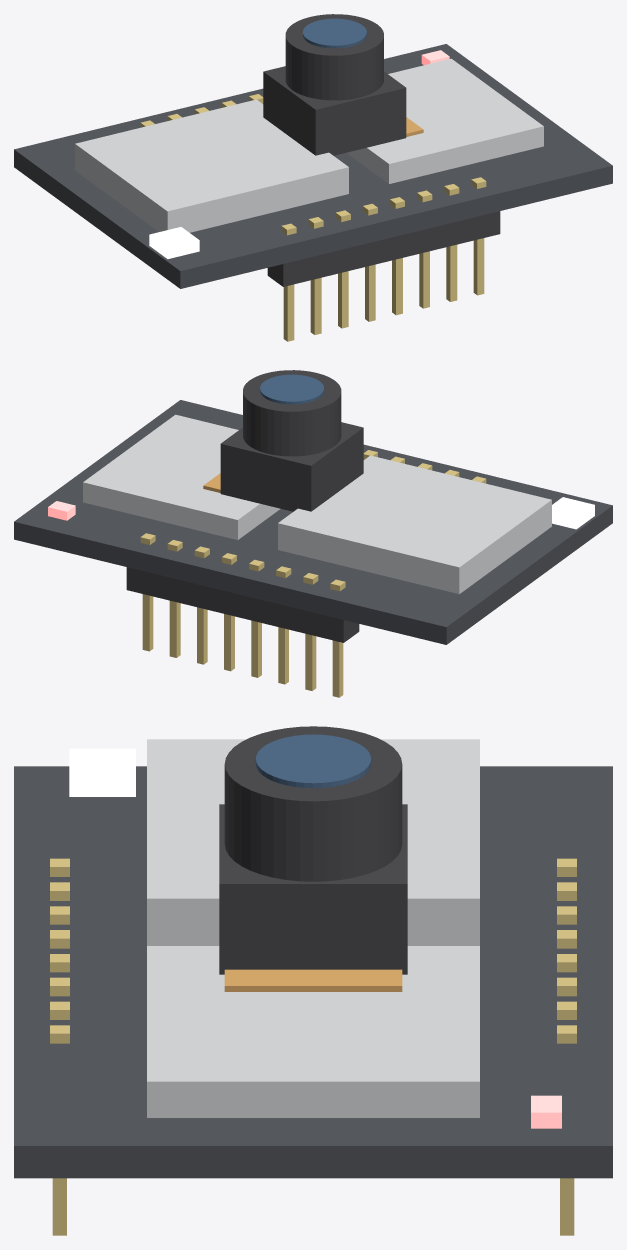
Rendered from esp32_cam.glb.
The picture shows the model from 3 angles, top to bottom: view 1: azimuth 30°, elevation 25°; view 2: azimuth 150°, elevation 25°; view 3: azimuth 270°, elevation 25°; orthographic projection. The views are drawn at different scales.
Visible parts, largest first — view 1: esp32_cam_1_pcb_black, esp32_cam_2_shield, esp32_cam_3_shield, esp32_cam_5_plastic_black, esp32_cam_6_plastic_black, esp32_cam_27_plastic_black, esp32_cam_7_glass, esp32_cam_8_led_white, esp32_cam_28_gold, esp32_cam_40_gold, esp32_cam_42_gold, esp32_cam_30_gold (+4 smaller); view 2: esp32_cam_1_pcb_black, esp32_cam_2_shield, esp32_cam_3_shield, esp32_cam_5_plastic_black, esp32_cam_6_plastic_black, esp32_cam_10_plastic_black, esp32_cam_7_glass, esp32_cam_8_led_white, esp32_cam_11_gold, esp32_cam_23_gold, esp32_cam_25_gold, esp32_cam_13_gold (+4 smaller); view 3: esp32_cam_1_pcb_black, esp32_cam_3_shield, esp32_cam_2_shield, esp32_cam_6_plastic_black, esp32_cam_5_plastic_black, esp32_cam_7_glass, esp32_cam_4_orange, esp32_cam_8_led_white, esp32_cam_9_led_red, esp32_cam_25_gold, esp32_cam_42_gold.
Boxes of the visible parts, <box> form: esp32_cam_1_pcb_black: <box>14,44,612,288</box>; esp32_cam_2_shield: <box>75,99,348,232</box>; esp32_cam_3_shield: <box>346,58,543,183</box>; esp32_cam_5_plastic_black: <box>263,66,406,155</box>; esp32_cam_6_plastic_black: <box>285,14,383,100</box>; esp32_cam_27_plastic_black: <box>267,211,500,286</box>; esp32_cam_7_glass: <box>303,18,366,48</box>; esp32_cam_8_led_white: <box>149,227,199,258</box>; esp32_cam_28_gold: <box>283,284,294,341</box>; esp32_cam_40_gold: <box>446,244,457,301</box>; esp32_cam_42_gold: <box>473,238,484,295</box>; esp32_cam_30_gold: <box>310,277,321,334</box>; esp32_cam_1_pcb_black: <box>14,400,612,644</box>; esp32_cam_2_shield: <box>278,455,551,594</box>; esp32_cam_3_shield: <box>83,414,280,539</box>; esp32_cam_5_plastic_black: <box>220,422,363,511</box>; esp32_cam_6_plastic_black: <box>243,370,341,456</box>; esp32_cam_10_plastic_black: <box>126,567,359,642</box>; esp32_cam_7_glass: <box>260,374,323,404</box>; esp32_cam_8_led_white: <box>552,497,594,529</box>; esp32_cam_11_gold: <box>332,640,343,697</box>; esp32_cam_23_gold: <box>169,600,180,657</box>; esp32_cam_25_gold: <box>142,594,153,651</box>; esp32_cam_13_gold: <box>305,633,316,690</box>; esp32_cam_1_pcb_black: <box>14,766,612,1178</box>; esp32_cam_3_shield: <box>147,946,479,1117</box>; esp32_cam_2_shield: <box>147,739,479,945</box>; esp32_cam_6_plastic_black: <box>224,726,402,881</box>; esp32_cam_5_plastic_black: <box>219,804,407,974</box>; esp32_cam_7_glass: <box>255,734,371,788</box>; esp32_cam_4_orange: <box>224,969,402,991</box>; esp32_cam_8_led_white: <box>69,748,135,796</box>; esp32_cam_9_led_red: <box>531,1095,561,1128</box>; esp32_cam_25_gold: <box>560,1178,574,1235</box>; esp32_cam_42_gold: <box>52,1178,66,1235</box>.
Bounding box in the file's own units: 40.5 × 20.35 × 27.
